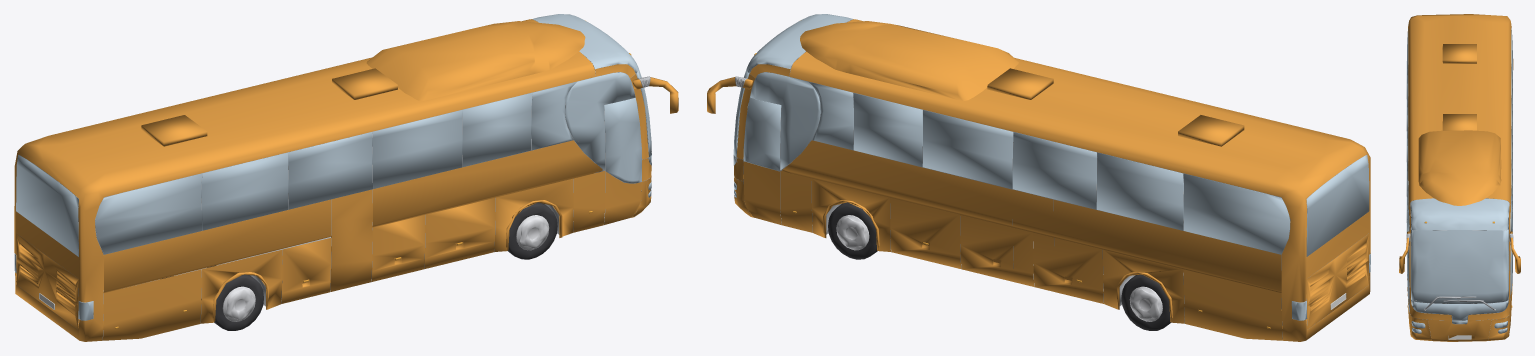
File: archmodels55-15.glb
The picture shows the model from 3 angles, left to right: view 1: azimuth 30°, elevation 25°; view 2: azimuth 150°, elevation 25°; view 3: azimuth 270°, elevation 25°; orthographic projection. The views are drawn at different scales.
Visible parts, largest first — view 1: Archmodels55_15_carpaint, Archmodels55_15_glass, Archmodels55_15_tires, Archmodels55_15_bottom, Archmodels55_15_rims; view 2: Archmodels55_15_carpaint, Archmodels55_15_glass, Archmodels55_15_tires, Archmodels55_15_rims, Archmodels55_15_bottom; view 3: Archmodels55_15_carpaint, Archmodels55_15_glass, Archmodels55_15_wipes, Archmodels55_15_lights_glass, Archmodels55_15_bottom.
Boxes of the visible parts, x1,y1,x2,y2 form: Archmodels55_15_carpaint: [14, 19, 678, 341]; Archmodels55_15_glass: [16, 14, 651, 256]; Archmodels55_15_tires: [162, 202, 557, 330]; Archmodels55_15_bottom: [15, 19, 651, 340]; Archmodels55_15_rims: [222, 215, 549, 321]; Archmodels55_15_carpaint: [707, 19, 1370, 341]; Archmodels55_15_glass: [733, 14, 1369, 256]; Archmodels55_15_tires: [828, 202, 1171, 330]; Archmodels55_15_rims: [836, 215, 1162, 321]; Archmodels55_15_bottom: [734, 19, 1368, 338]; Archmodels55_15_carpaint: [1399, 14, 1520, 341]; Archmodels55_15_glass: [1406, 28, 1512, 323]; Archmodels55_15_wipes: [1406, 233, 1513, 311]; Archmodels55_15_lights_glass: [1411, 321, 1507, 333]; Archmodels55_15_bottom: [1408, 196, 1511, 340].
Bounding box in the file's own units: 12.25 × 3.91 × 2.89.
